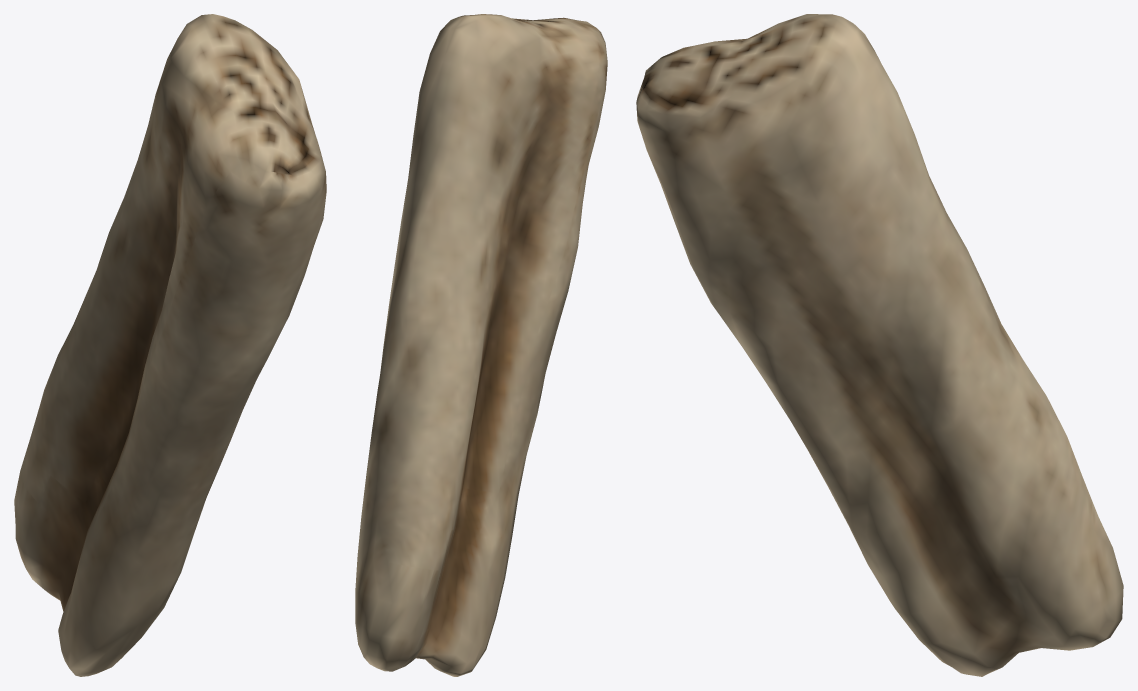
The model's file is Mandibular_Molar2.glb.
The picture shows the model from 3 angles, left to right: view 1: azimuth 30°, elevation 25°; view 2: azimuth 150°, elevation 25°; view 3: azimuth 270°, elevation 25°; orthographic projection. The views are drawn at different scales.
Parts seen in each view (by area): view 1: Group18488_Mesh.010; view 2: Group18488_Mesh.010; view 3: Group18488_Mesh.010.
Part boxes in pixels (left/top/right/bottom): Group18488_Mesh.010: left=14, top=14, right=326, bottom=676; Group18488_Mesh.010: left=355, top=14, right=607, bottom=676; Group18488_Mesh.010: left=636, top=14, right=1123, bottom=676.
Size of the model in its own units: 0.0175 by 0.0803 by 0.0522.
Materials: 1 (1 with a texture image).
